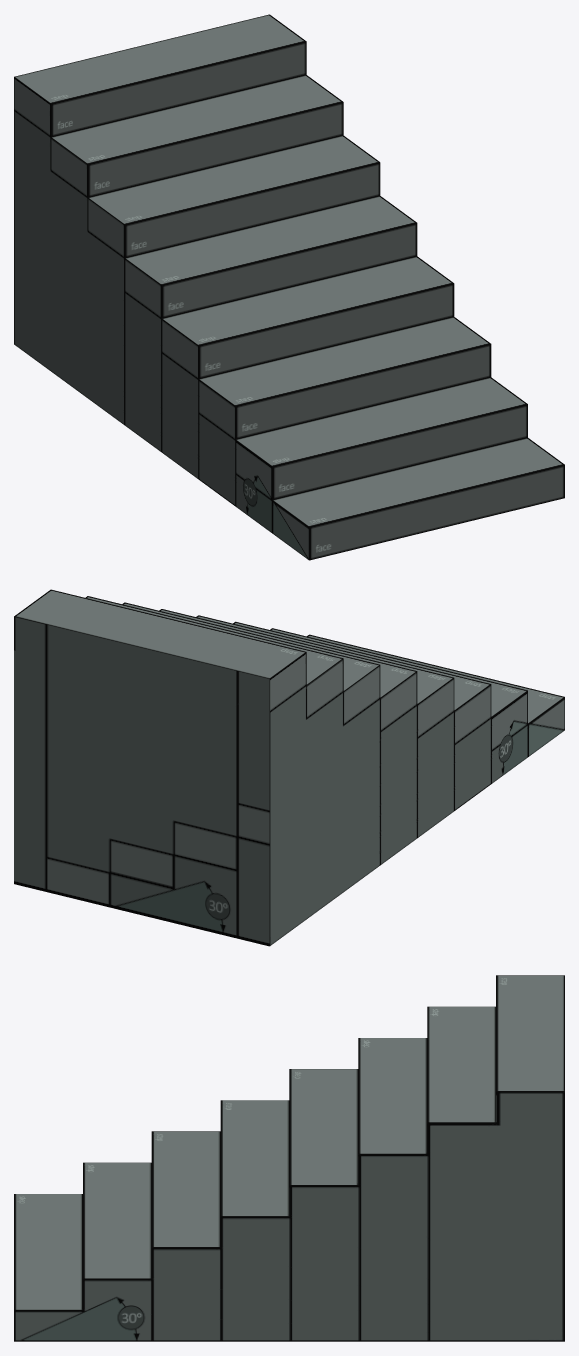
File: Stairs_30_04.fbx
3 renders of one model, top to bottom at view 1: azimuth 30°, elevation 25°; view 2: azimuth 150°, elevation 25°; view 3: azimuth 270°, elevation 25°, orthographic. The views are drawn at different scales.
Parts seen in each view (by area): view 1: Stairs_30_04; view 2: Stairs_30_04; view 3: Stairs_30_04.
Boxes of the visible parts, x1,y1,x2,y2 form: Stairs_30_04: (14,14,564,560); Stairs_30_04: (14,589,564,946); Stairs_30_04: (14,975,564,1341).
Bounding box in the file's own units: 4 × 4 × 8.
